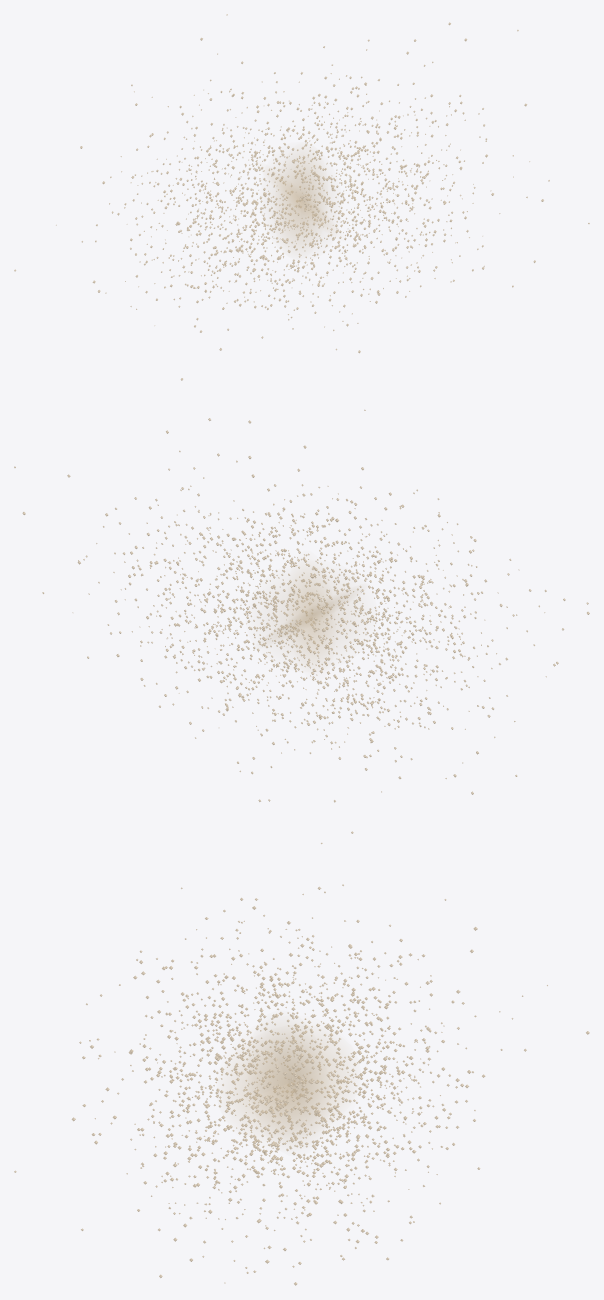
3 renders of one model, top to bottom at view 1: azimuth 30°, elevation 25°; view 2: azimuth 150°, elevation 25°; view 3: azimuth 270°, elevation 25°, orthographic. The views are drawn at different scales.
Size of the model in its own units: 7.64 by 4.53 by 6.42.
